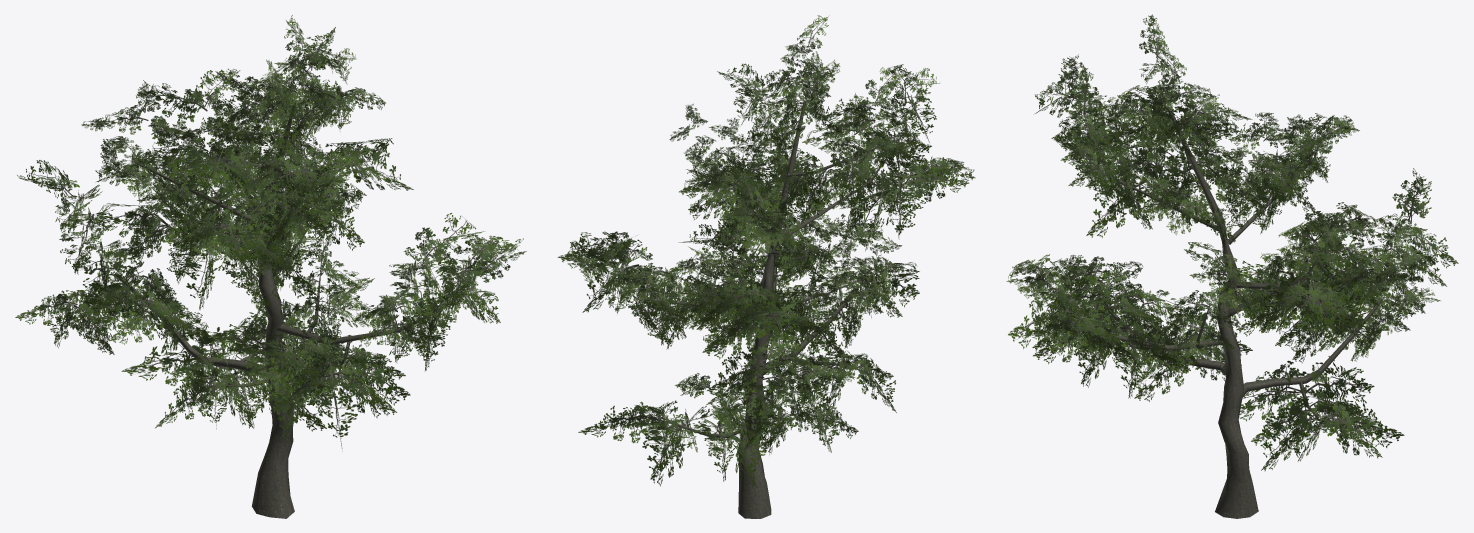
File: toak2.glb
3 renders of one model, left to right at view 1: azimuth 30°, elevation 25°; view 2: azimuth 150°, elevation 25°; view 3: azimuth 270°, elevation 25°, orthographic. The views are drawn at different scales.
Visible parts, largest first — view 1: prefab; view 2: prefab; view 3: prefab.
Part boxes in pixels (x1=…): prefab: x1=15, y1=15, x2=526, y2=518; prefab: x1=557, y1=15, x2=975, y2=518; prefab: x1=1006, y1=14, x2=1458, y2=518.
Size of the model in its own units: 10.92 by 16.23 by 13.83.
Materials: 2 (2 with a texture image).
